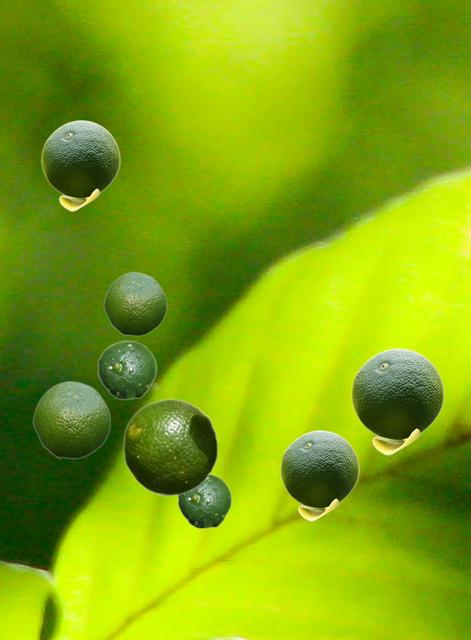calamansi: (351, 348, 443, 454), (122, 398, 218, 495), (280, 430, 358, 520), (41, 120, 119, 210), (32, 380, 110, 458), (103, 271, 166, 335), (97, 340, 156, 399), (177, 474, 231, 528)
